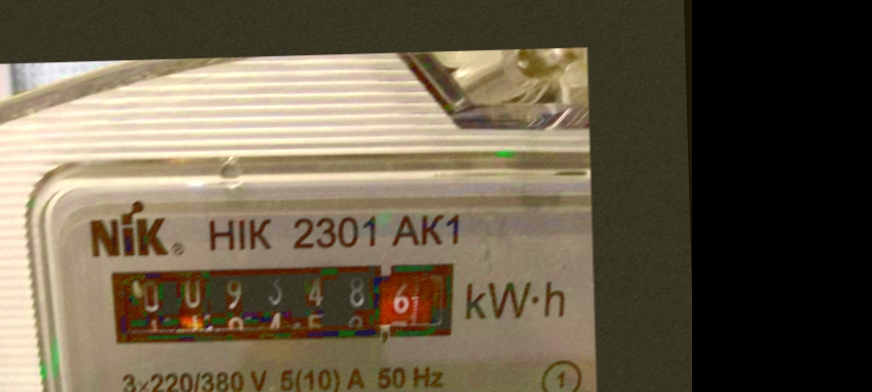0: (182, 277, 204, 313), (141, 280, 162, 315)
3: (264, 275, 287, 308)
4: (304, 274, 326, 312)
6: (392, 282, 414, 316)
8: (347, 275, 368, 310)
9: (225, 277, 244, 311)
screen: (89, 249, 476, 362)
